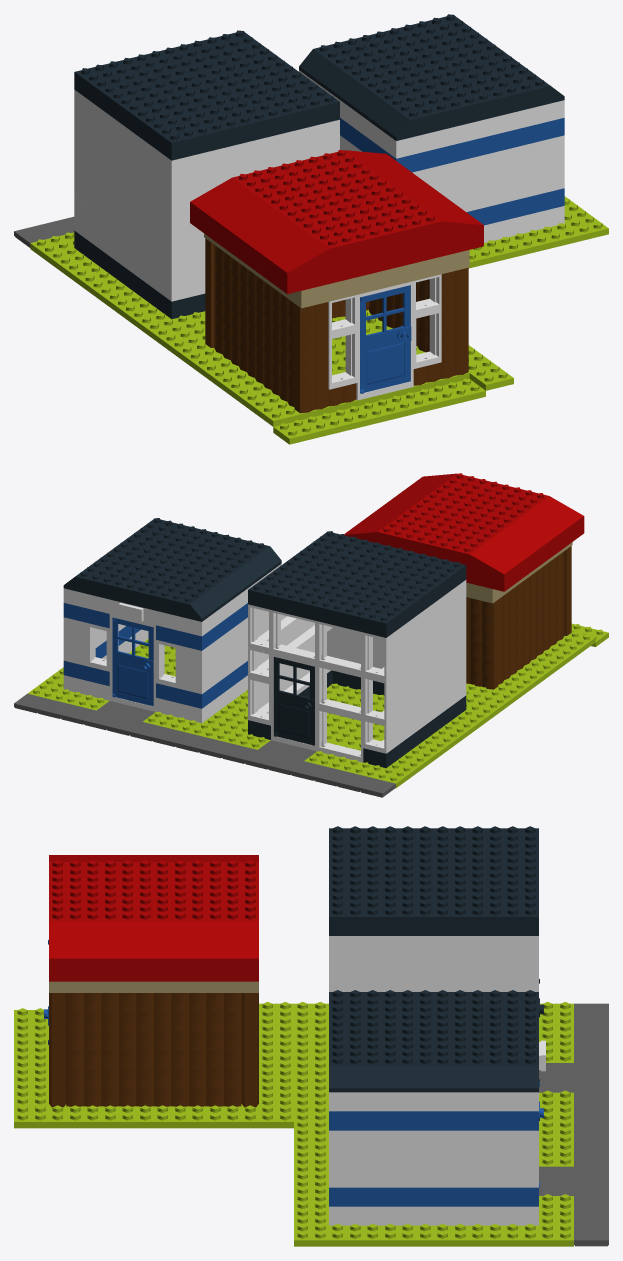
File: Block4-lod2.fbx
3 views of the same model, one above another, from view 1: azimuth 30°, elevation 25°; view 2: azimuth 150°, elevation 25°; view 3: azimuth 270°, elevation 25° (orthographic). The views are drawn at different scales.
Parts seen in each view (by area): view 1: Material_26, Material_1, Material_21, Material_119, Material_192, Material_23, Material_5, Material_199; view 2: Material_1, Material_26, Material_21, Material_119, Material_192, Material_199, Material_23, Material_5; view 3: Material_26, Material_119, Material_1, Material_21, Material_192, Material_199, Material_23, Material_5.
Boxes of the visible parts, bbox=[...] form: Material_26: bbox=[74, 14, 564, 319]; Material_1: bbox=[74, 70, 564, 400]; Material_21: bbox=[190, 150, 483, 294]; Material_119: bbox=[30, 196, 608, 444]; Material_192: bbox=[205, 238, 468, 413]; Material_23: bbox=[340, 118, 564, 393]; Material_5: bbox=[204, 233, 469, 308]; Material_199: bbox=[14, 216, 74, 247]; Material_1: bbox=[63, 564, 466, 762]; Material_26: bbox=[63, 518, 466, 768]; Material_21: bbox=[344, 473, 584, 591]; Material_119: bbox=[28, 623, 608, 788]; Material_192: bbox=[466, 546, 571, 689]; Material_199: bbox=[14, 693, 395, 797]; Material_23: bbox=[63, 603, 247, 708]; Material_5: bbox=[466, 542, 572, 603]; Material_26: bbox=[329, 826, 543, 1092]; Material_119: bbox=[14, 1002, 573, 1246]; Material_1: bbox=[329, 936, 545, 1225]; Material_21: bbox=[49, 855, 258, 981]; Material_192: bbox=[49, 993, 258, 1107]; Material_199: bbox=[539, 1003, 608, 1246]; Material_23: bbox=[44, 939, 543, 1206]; Material_5: bbox=[49, 981, 258, 992].
Bounding box in the file's own units: 25.6 × 10.42 × 27.2.
